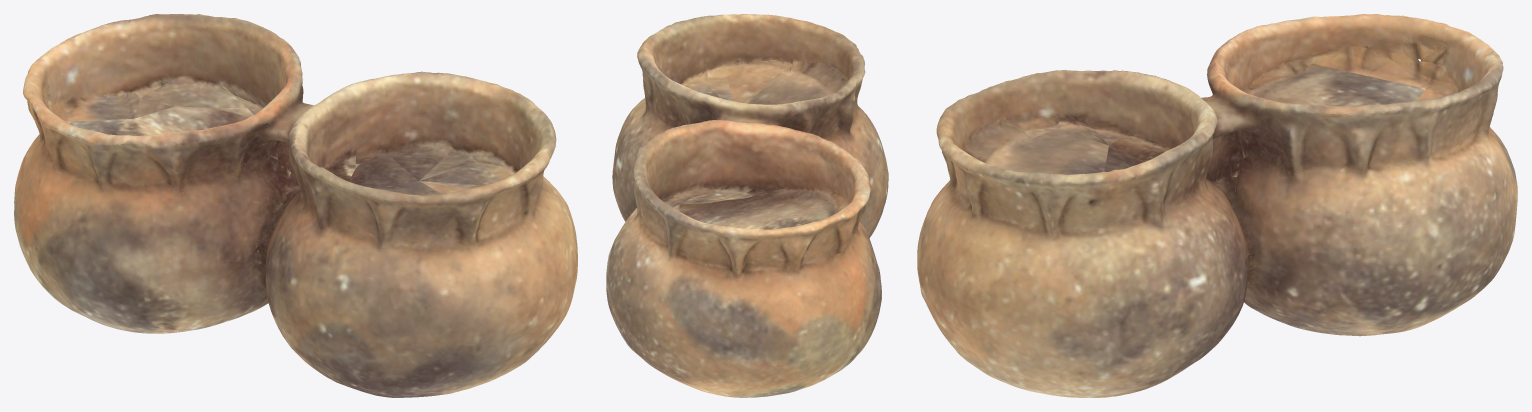
Rendered from Ark_HM_1299_Hi.glb.
3 renders of one model, left to right at view 1: azimuth 30°, elevation 25°; view 2: azimuth 150°, elevation 25°; view 3: azimuth 270°, elevation 25°, orthographic. The views are drawn at different scales.
Bounding box in the file's own units: 0.4018 × 0.2471 × 0.499.
1 material, 1 textured.
